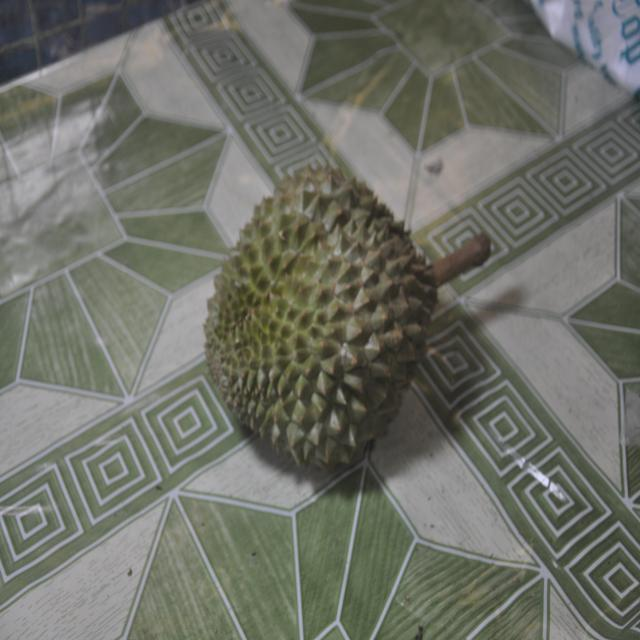mature: (204, 166, 437, 471)
